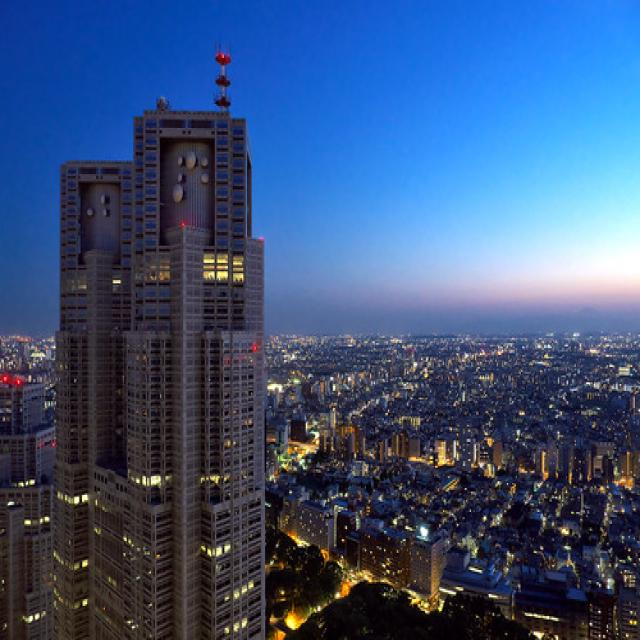building: (48, 96, 271, 632)
